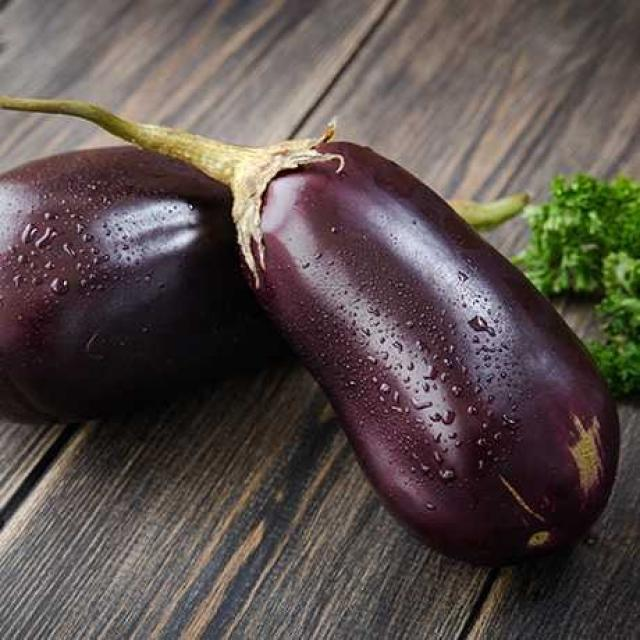Eggplant-r1Ob: (0, 98, 619, 563), (0, 148, 278, 417)
